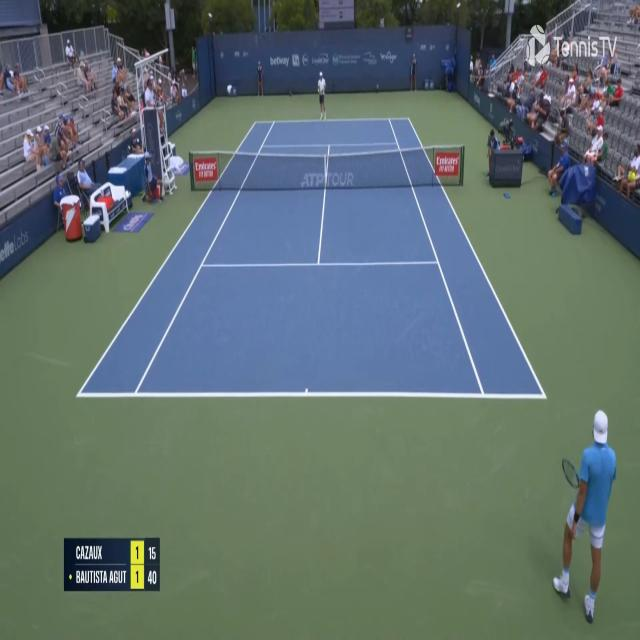tennis-player: (556, 404, 622, 631), (316, 70, 327, 120)
